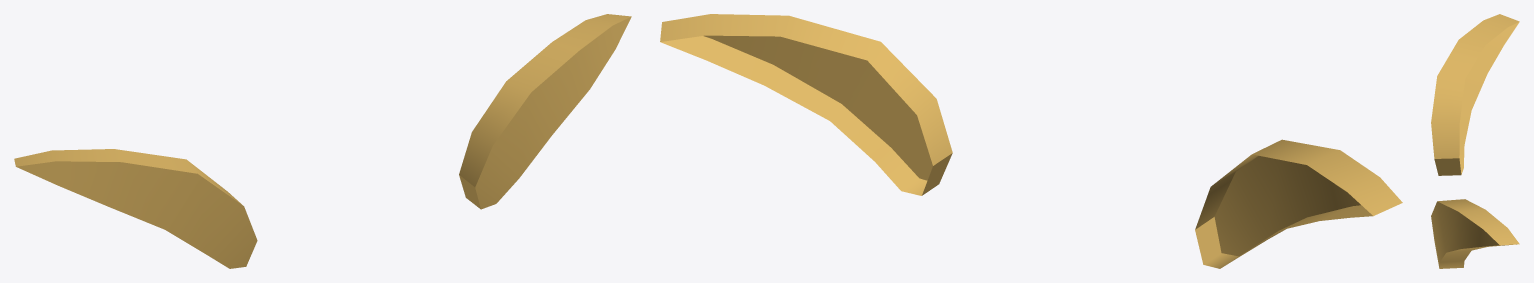
File: Eyebrow_8.fbx
3 views of the same model, side by side, from view 1: azimuth 30°, elevation 25°; view 2: azimuth 150°, elevation 25°; view 3: azimuth 270°, elevation 25° (orthographic). The views are drawn at different scales.
Parts seen in each view (by area): view 1: Eyebrow_8; view 2: Eyebrow_8; view 3: Eyebrow_8.
Boxes of the visible parts, x1,y1,x2,y2 form: Eyebrow_8: (14,14,631,268); Eyebrow_8: (660,14,1402,268); Eyebrow_8: (1431,14,1519,268).
Bounding box in the file's own units: 27.94 × 5.35 × 4.54.
